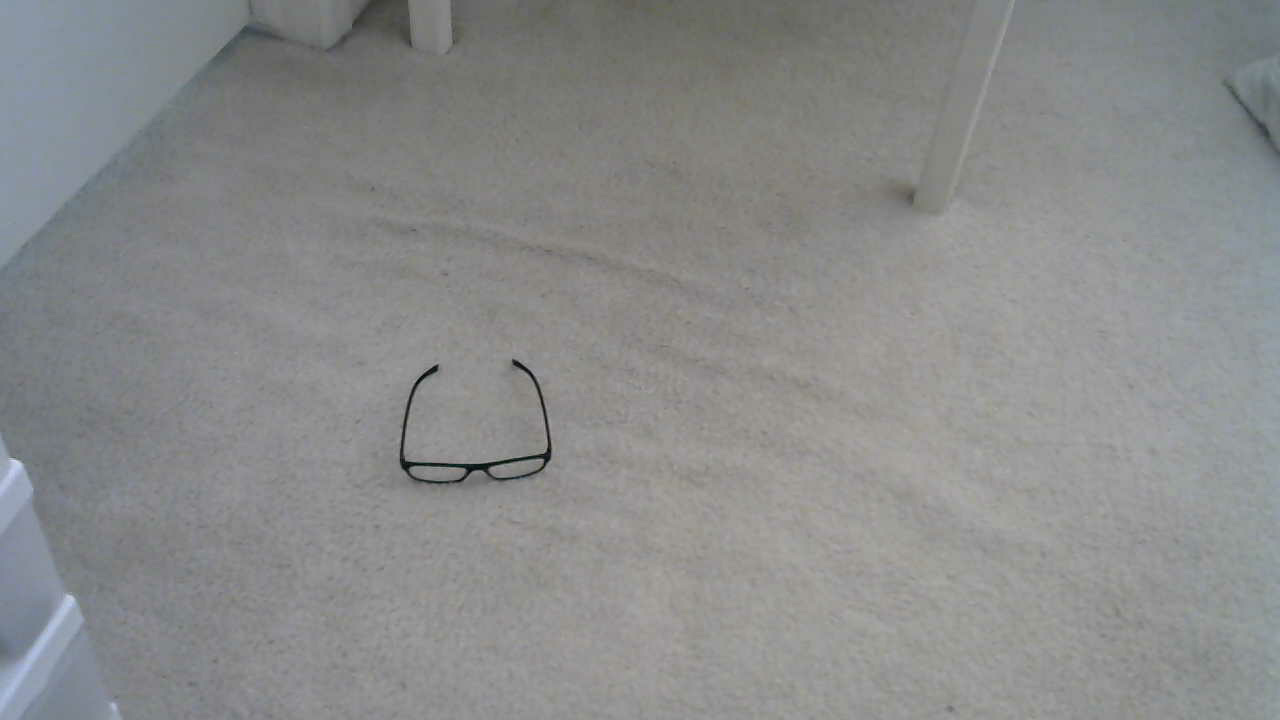Glasses: (390, 373, 591, 500)
